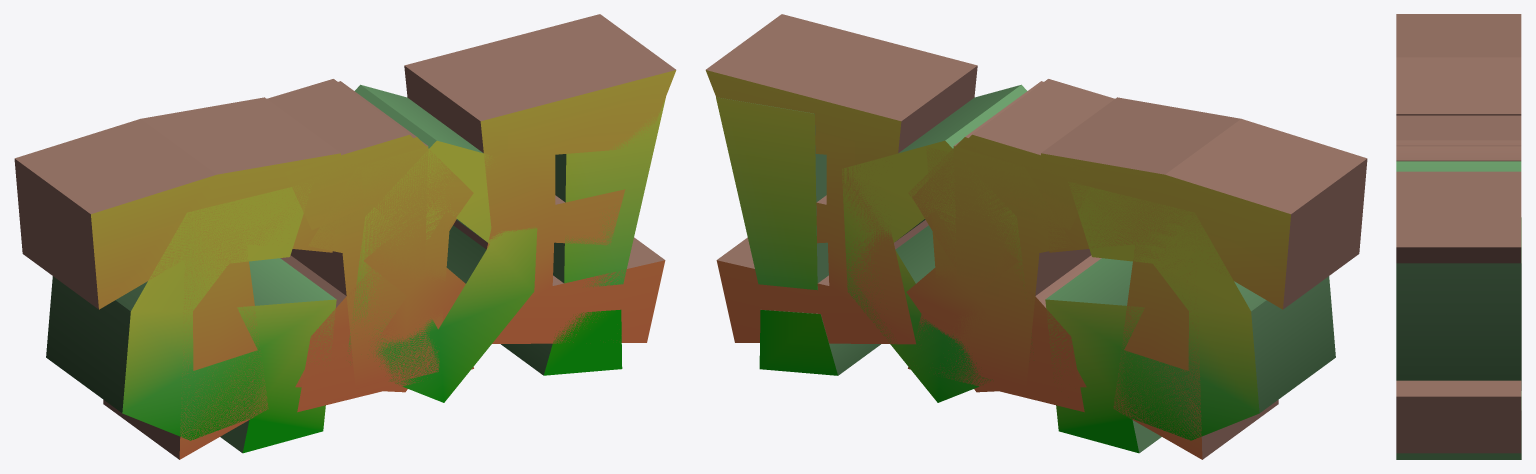
3 views of the same model, side by side, from view 1: azimuth 30°, elevation 25°; view 2: azimuth 150°, elevation 25°; view 3: azimuth 270°, elevation 25° (orthographic). The views are drawn at different scales.
Parts seen in each view (by area): view 1: part5, part4, part2, part1, part3; view 2: part5, part4, part2, part1, part3; view 3: part5, part4, part2, part3, part1.
Boxes of the visible parts, x1=… form: part5: x1=14, y1=14, x2=676, y2=459; part4: x1=46, y1=84, x2=665, y2=453; part2: x1=267, y1=79, x2=473, y2=412; part1: x1=290, y1=141, x2=428, y2=389; part3: x1=295, y1=81, x2=473, y2=392; part5: x1=705, y1=14, x2=1367, y2=459; part4: x1=716, y1=84, x2=1335, y2=453; part2: x1=908, y1=79, x2=1114, y2=412; part1: x1=953, y1=141, x2=1091, y2=389; part3: x1=906, y1=81, x2=1086, y2=392; part5: x1=1396, y1=14, x2=1521, y2=453; part4: x1=1396, y1=161, x2=1521, y2=459; part2: x1=1396, y1=115, x2=1521, y2=145; part3: x1=1396, y1=145, x2=1521, y2=159; part1: x1=1396, y1=160, x2=1521, y2=161.
Bounding box in the file's own units: 1.96 × 0.9375 × 0.4434.
